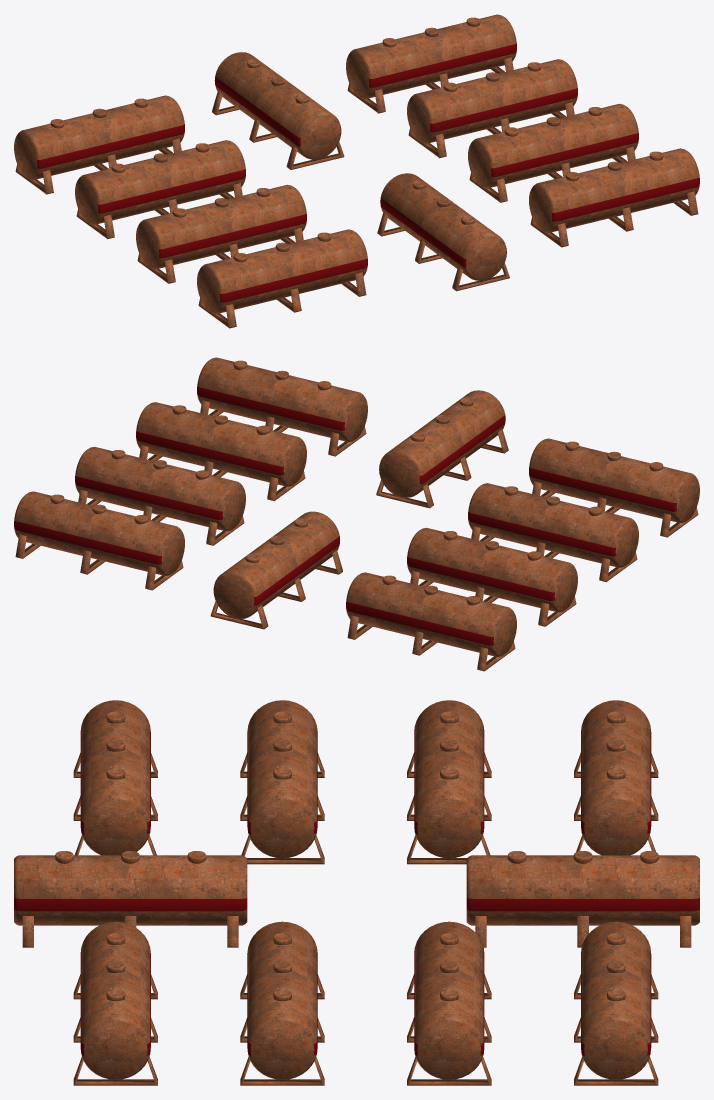
Rendered from OilTankSite.fbx.
The picture shows the model from 3 angles, top to bottom: view 1: azimuth 30°, elevation 25°; view 2: azimuth 150°, elevation 25°; view 3: azimuth 270°, elevation 25°; orthographic projection. The views are drawn at different scales.
Parts seen in each view (by area): view 1: Cylinder; view 2: Cylinder; view 3: Cylinder.
Boxes of the visible parts, box(x1,y1,x2,y2) form: Cylinder: box(14, 14, 699, 328); Cylinder: box(14, 357, 699, 671); Cylinder: box(14, 700, 699, 1085).
Bounding box in the file's own units: 3179 × 350 × 2879.
